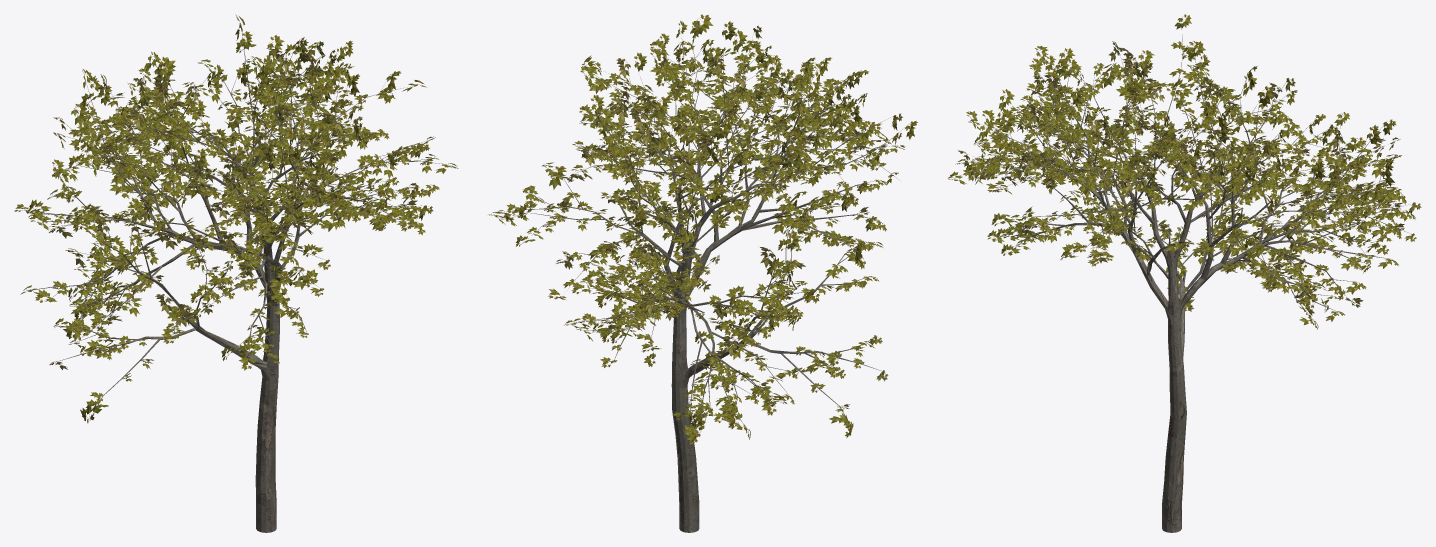
Rendered from sycamoreMaple.obj.
3 renders of one model, left to right at view 1: azimuth 30°, elevation 25°; view 2: azimuth 150°, elevation 25°; view 3: azimuth 270°, elevation 25°, orthographic. The views are drawn at different scales.
Parts seen in each view (by area): view 1: Twigs_Plane, tree; view 2: Twigs_Plane, tree; view 3: Twigs_Plane, tree.
Boxes of the visible parts, x1,y1,x2,y2 form: Twigs_Plane: (14,14,458,423); tree: (26,32,445,532); Twigs_Plane: (488,14,917,445); tree: (506,26,907,532); Twigs_Plane: (948,14,1421,329); tree: (963,24,1412,532).
Size of the model in its own units: 909 by 1200 by 1060.
2 materials, 2 textured.
